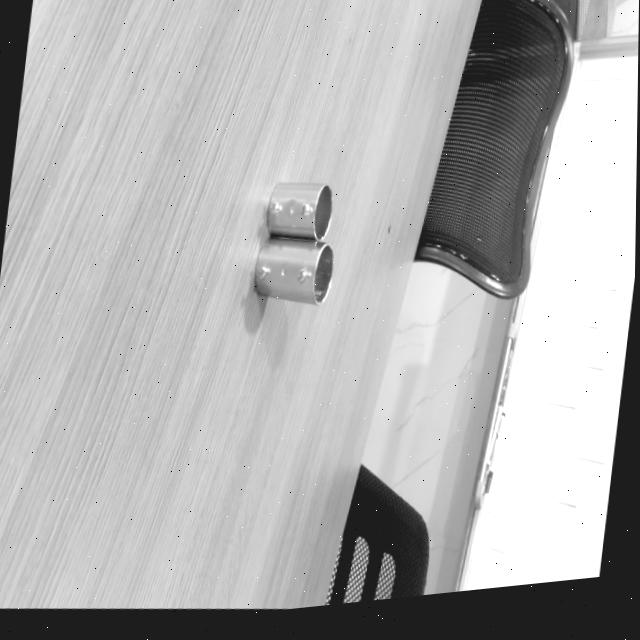Co_Lon: (252, 237, 333, 305)
Co_Nho: (264, 177, 333, 242)
